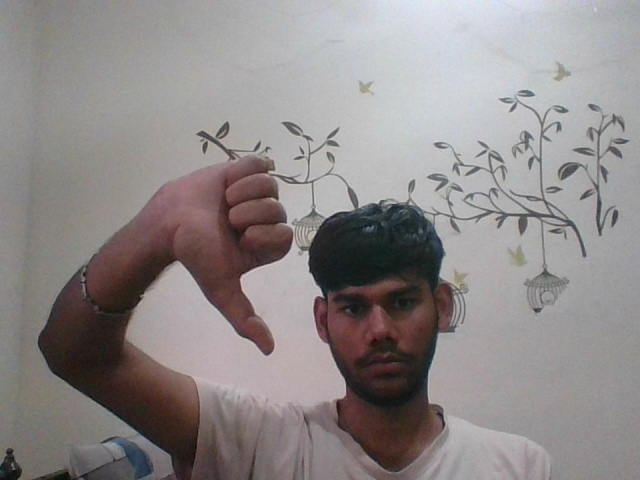No: (150, 156, 314, 368)
